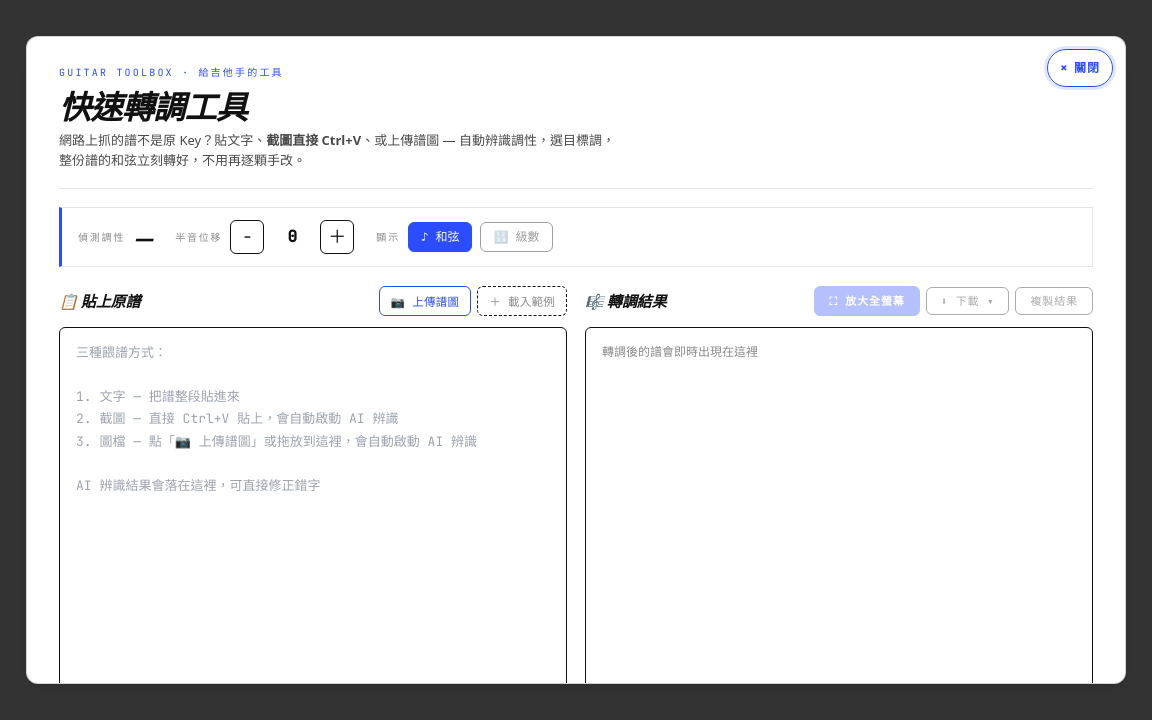
it: TransposeToolModal 全螢幕看譜 › 使用獨立 Dialog 鋪滿視窗，重設縮放時同步回到左上原點
Step 1. Click the button "＋ 載入範例" → [522, 301], box [477, 286, 567, 316]
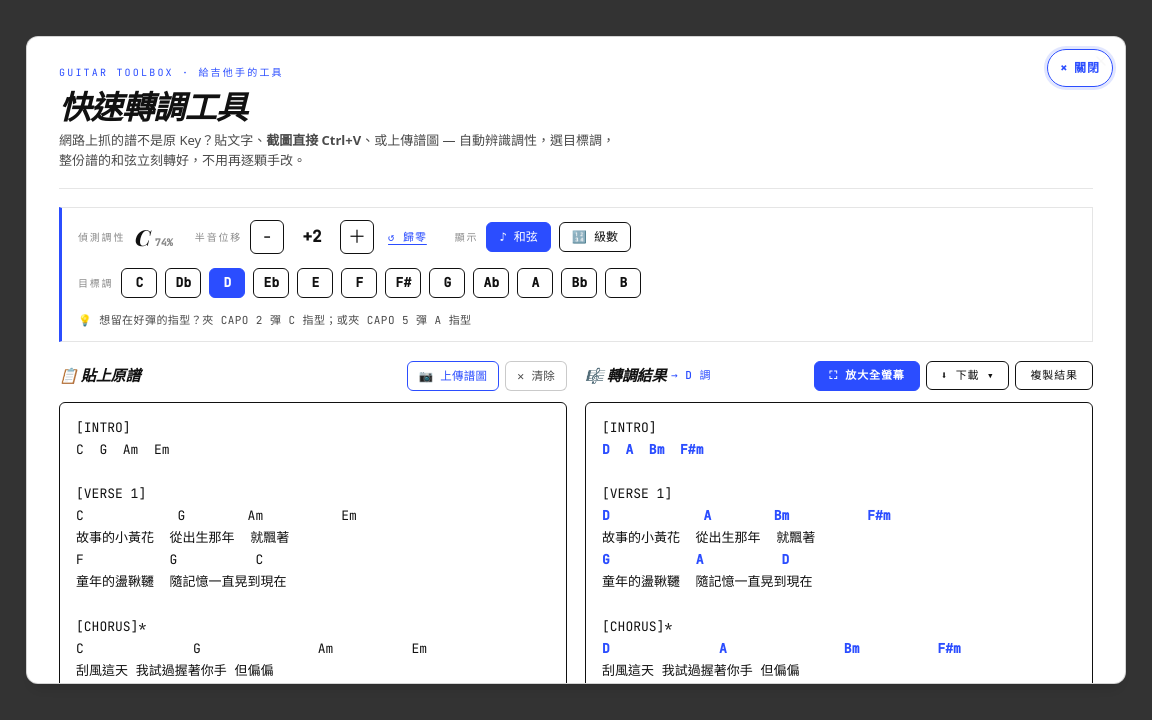
Step 2. Click the button "⛶ 放大全螢幕" → [867, 376], box [814, 361, 920, 391]
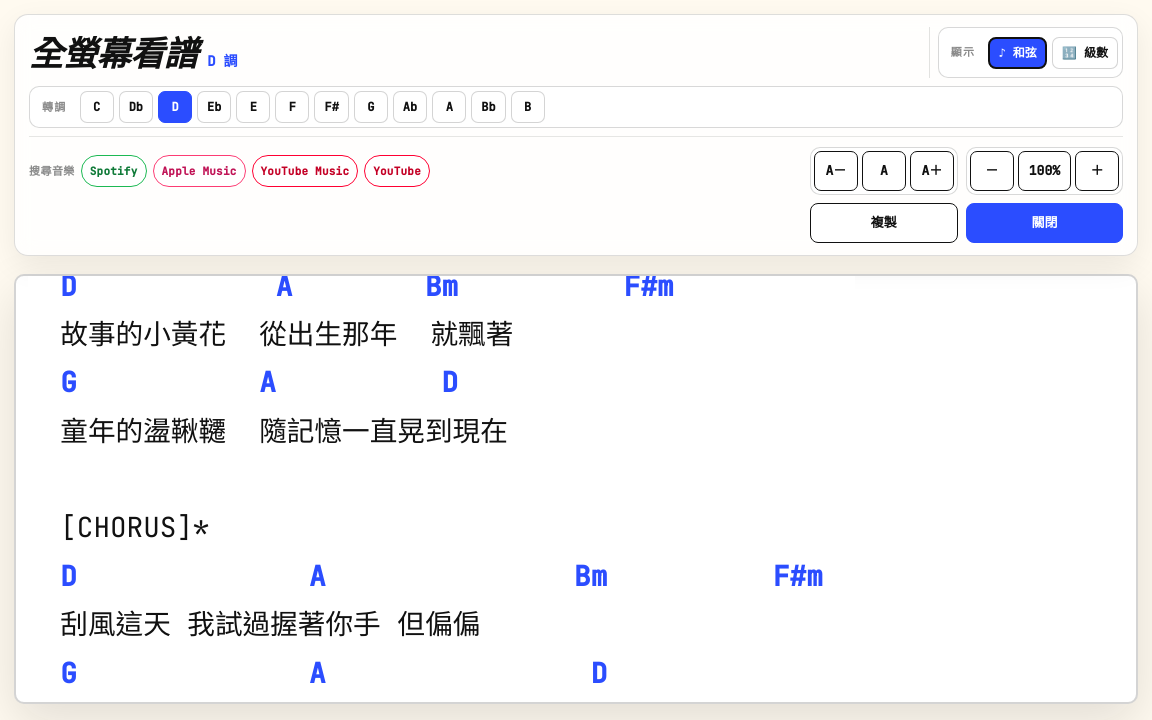
Result: the element named "全螢幕看譜功能列" is shown at [14, 14, 1138, 256]
Result: the element with class "ttm-fullscreen-scroll" is shown at [14, 274, 1138, 704]
Step 3. Press the mouse on the button named "放大看譜" → [1097, 171], box [1075, 151, 1119, 191]
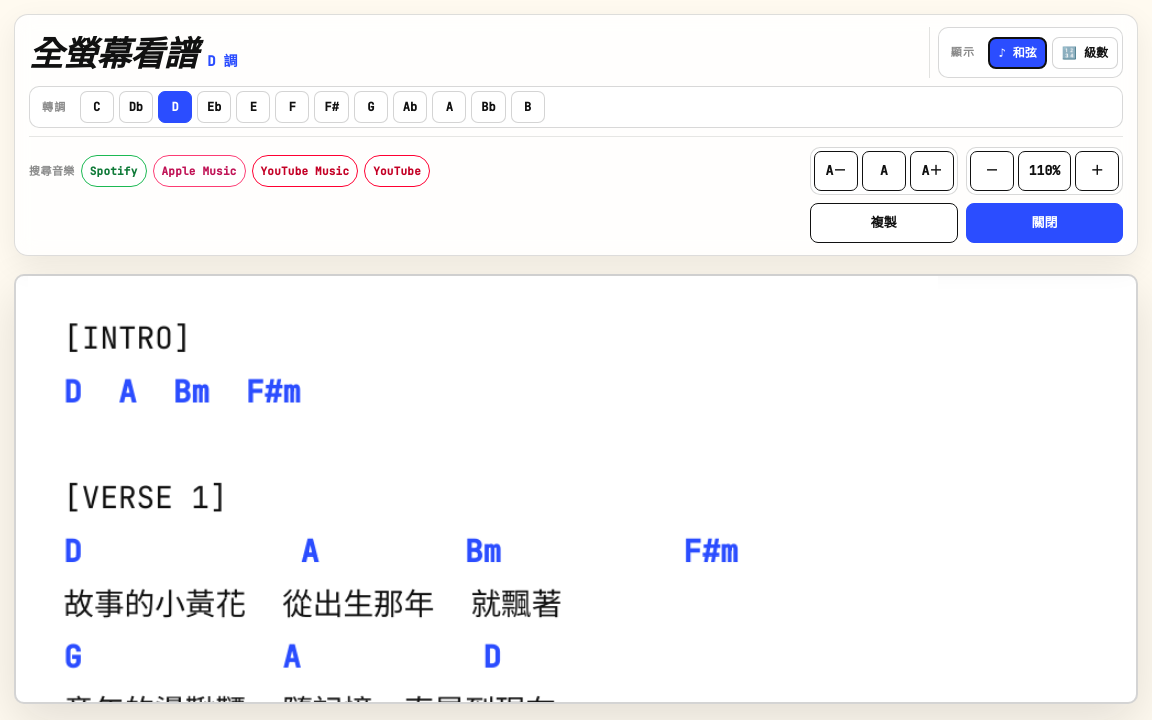
Result: the button "110%" is shown
Step 4. Press the mouse on the button named "重設看譜縮放" → [1044, 171], box [1018, 151, 1071, 191]
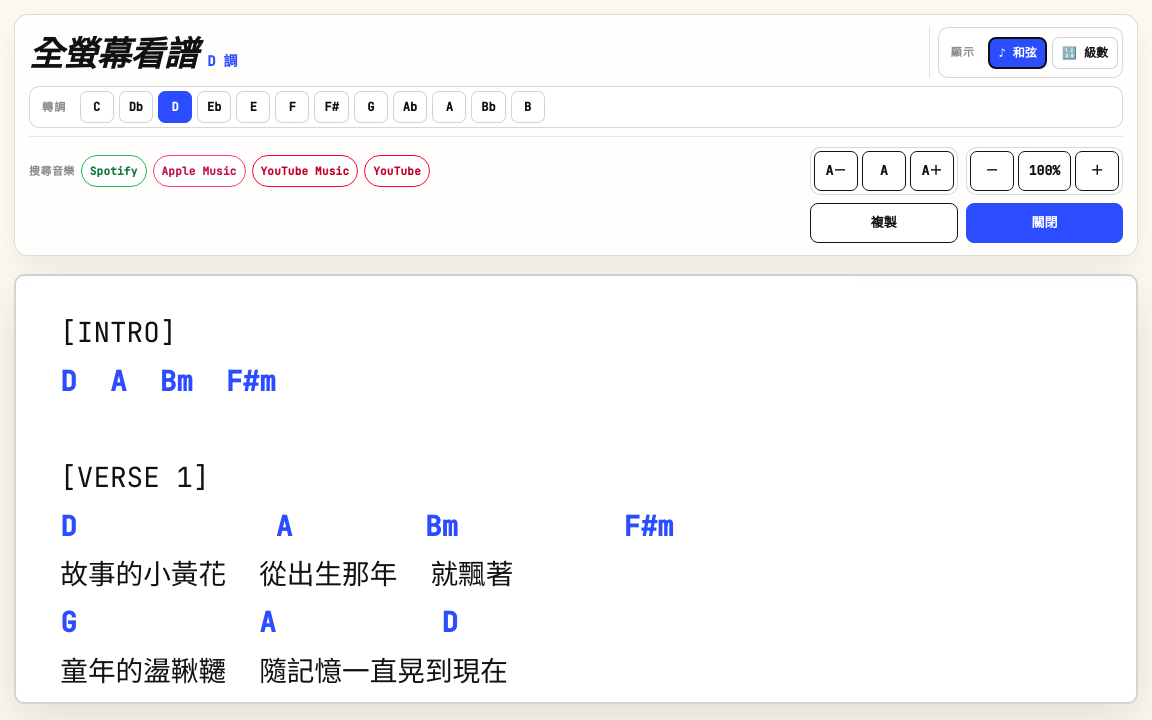
Result: the button named "重設看譜縮放" reads "100%" at [1018, 151, 1071, 191]
